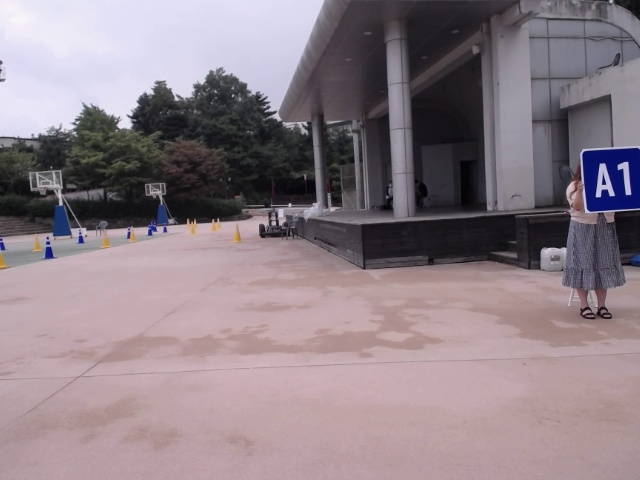delivery_a1: (581, 145, 639, 213)
